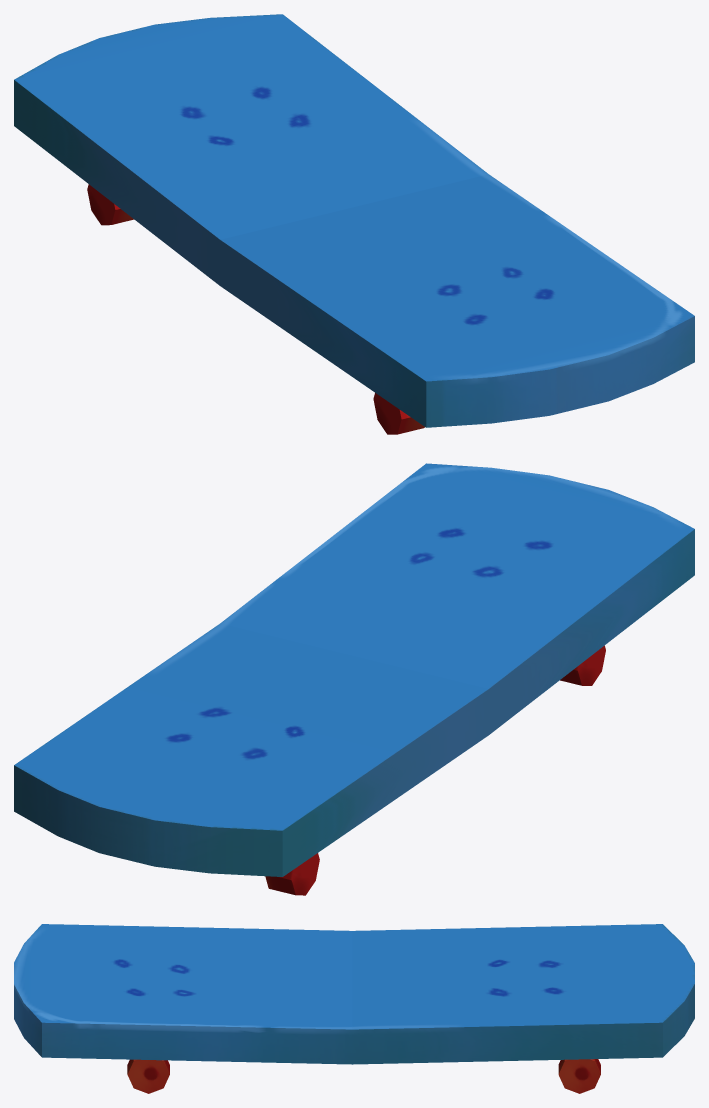
File: PickUp_Patin.fbx
3 renders of one model, top to bottom at view 1: azimuth 30°, elevation 25°; view 2: azimuth 150°, elevation 25°; view 3: azimuth 270°, elevation 25°, orthographic. The views are drawn at different scales.
Visible parts, largest first — view 1: Cube, Cylinder.002, Cylinder.006; view 2: Cube, Cylinder.006, Cylinder.002; view 3: Cube, Cylinder.007, Cylinder.003.
Part boxes in pixels (x1,y1,x2,y2): Cube: (14, 14, 694, 427); Cylinder.002: (373, 393, 424, 434); Cylinder.006: (87, 184, 133, 225); Cube: (14, 463, 694, 876); Cylinder.006: (265, 853, 319, 895); Cylinder.002: (560, 645, 605, 685); Cube: (14, 924, 694, 1064); Cylinder.007: (558, 1059, 600, 1093); Cylinder.003: (127, 1059, 169, 1093).
Size of the model in its own units: 75.26 by 30.24 by 219.
